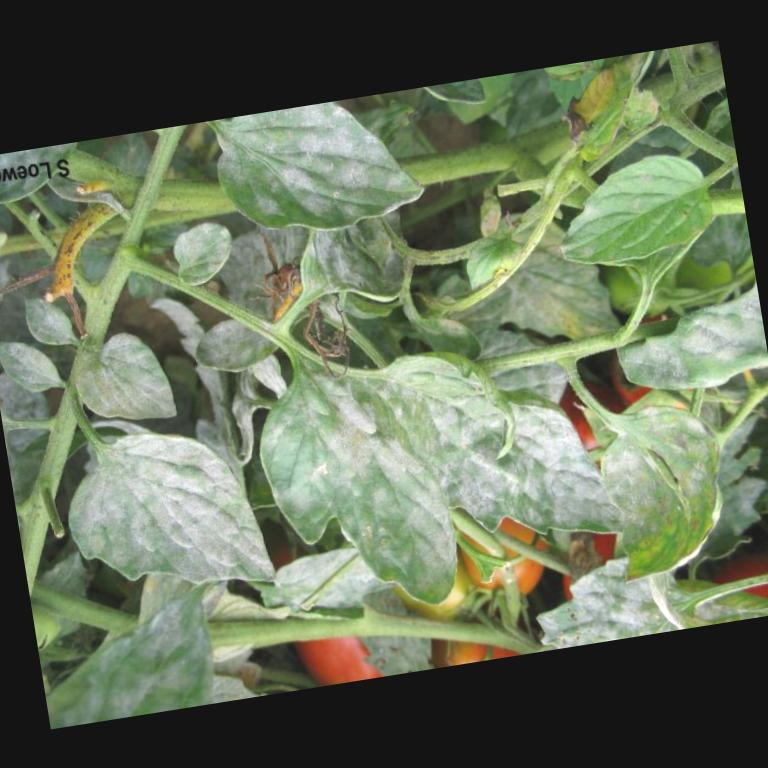powdery-mildew: (93, 448, 233, 574)
